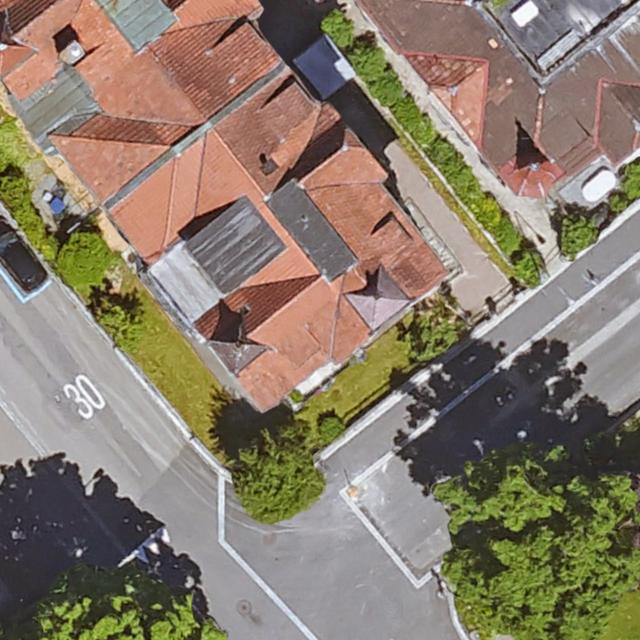tree: (444, 458, 640, 640), (32, 573, 208, 640), (232, 422, 325, 512), (59, 230, 113, 290)
